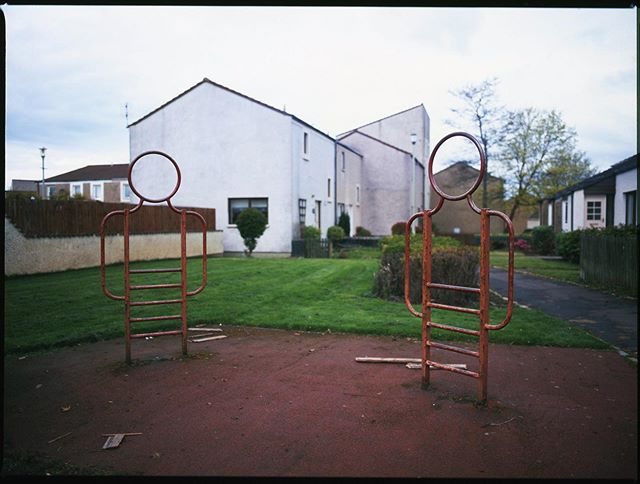building: (141, 94, 329, 263), (328, 102, 434, 241), (541, 137, 640, 241), (46, 158, 130, 204)
grass: (1, 259, 364, 326)
sky: (1, 1, 640, 138)
tree: (476, 97, 586, 238)
